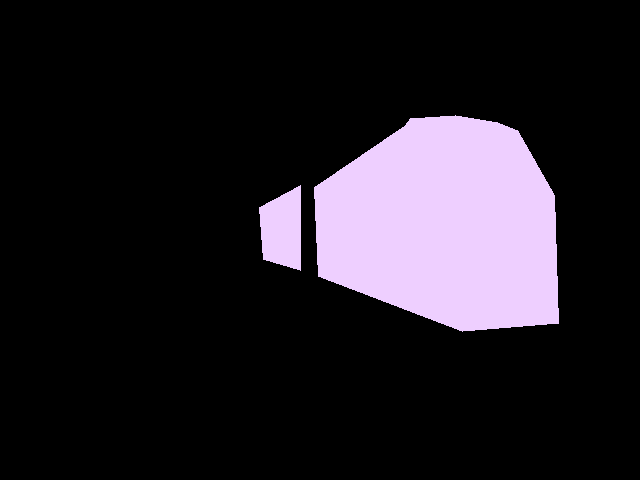Train: (259, 115, 558, 331)
